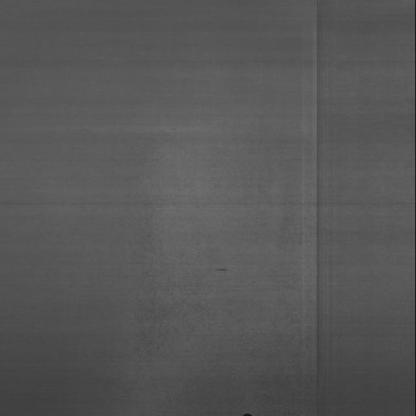welding_line: (304, 0, 337, 414)
